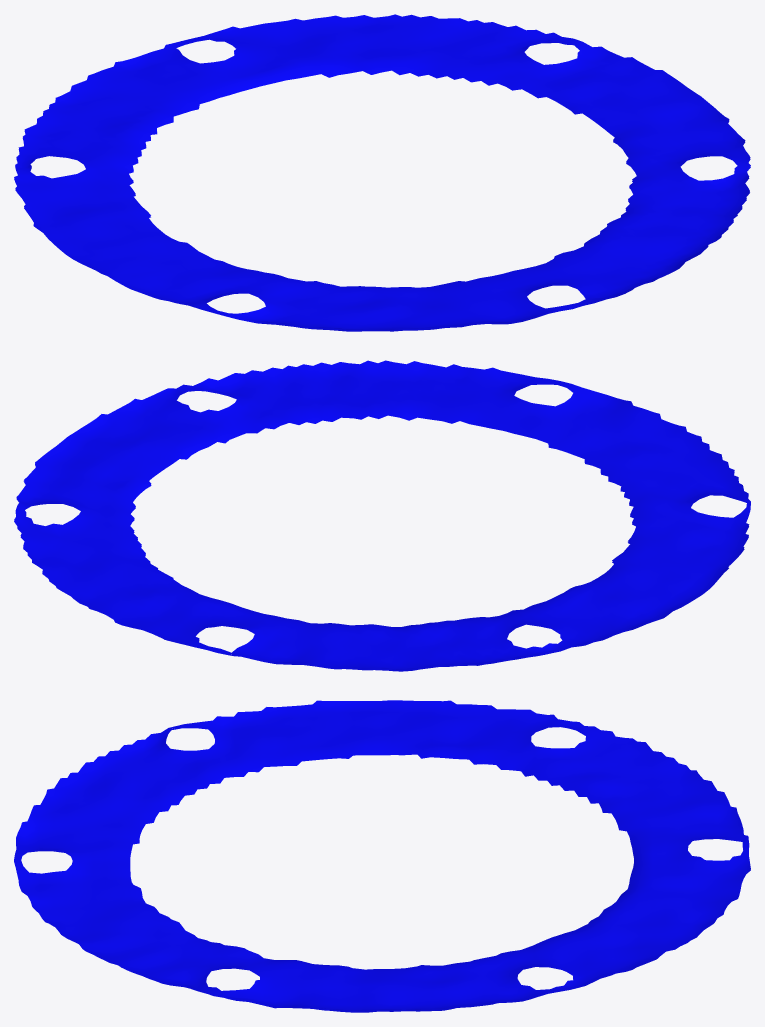
3 views of the same model, one above another, from view 1: azimuth 30°, elevation 25°; view 2: azimuth 150°, elevation 25°; view 3: azimuth 270°, elevation 25° (orthographic).
Parts seen in each view (by area): view 1: ET_localisation2; view 2: ET_localisation2; view 3: ET_localisation2.
Part boxes in pixels (x1,y1,x2,y2): ET_localisation2: (14, 14, 750, 331); ET_localisation2: (14, 360, 750, 671); ET_localisation2: (14, 700, 750, 1012).
Bounding box in the file's own units: 2.47 × 0.0525 × 2.48.
